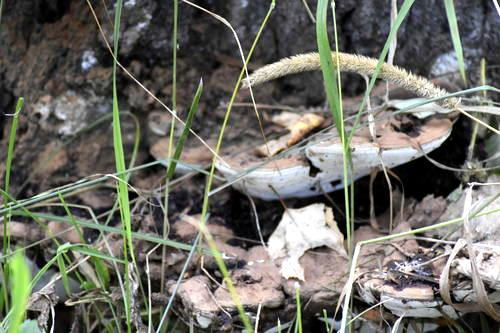Ganoderma - Fruit Body: (214, 64, 457, 203), (355, 244, 491, 322), (152, 119, 214, 173)
